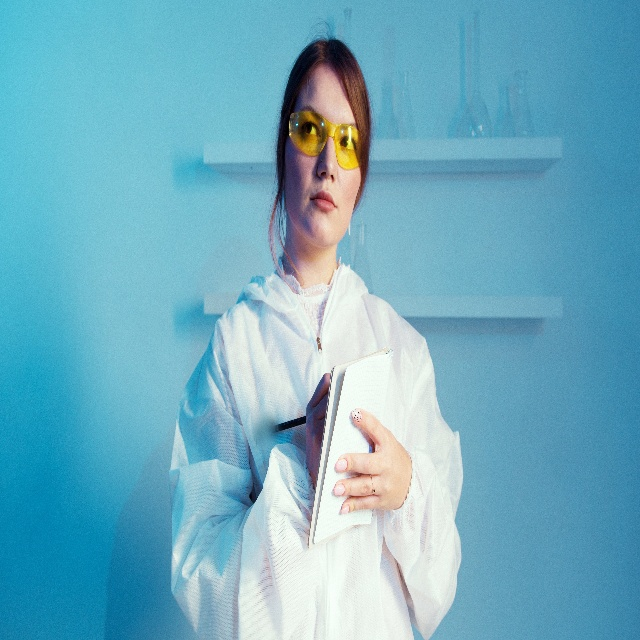Gafas: (287, 107, 364, 171)
Sin_guantes: (334, 402, 408, 516), (307, 371, 336, 486)
